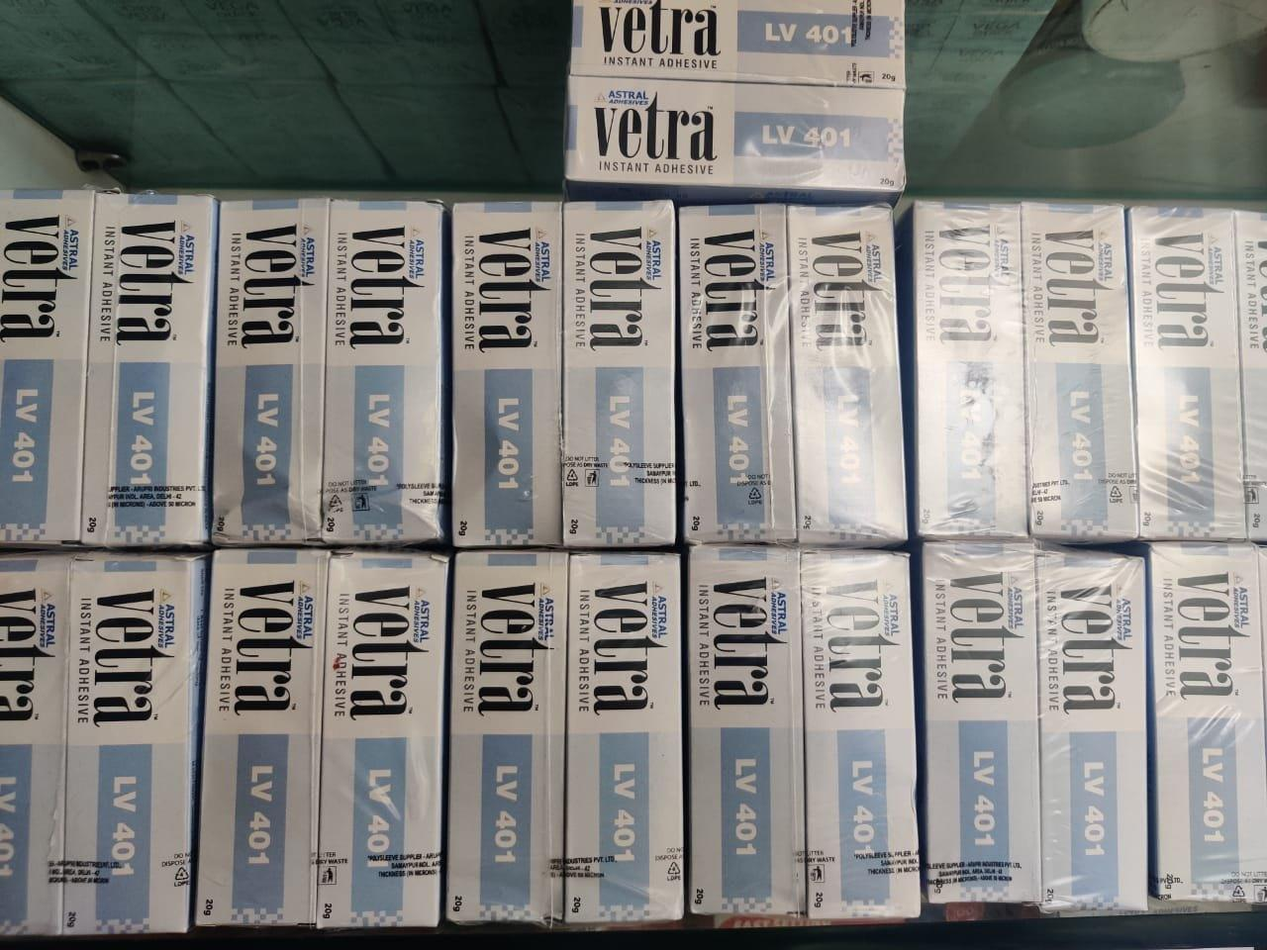VETRA_LV 401: (60, 554, 206, 934), (196, 549, 328, 925), (317, 552, 446, 928), (80, 193, 217, 545), (444, 551, 565, 922), (564, 553, 685, 923), (917, 542, 1040, 903), (802, 549, 920, 918), (565, 75, 904, 203), (321, 201, 447, 543), (1146, 543, 1266, 901), (688, 546, 805, 913), (899, 202, 1027, 537), (213, 199, 332, 543), (788, 207, 906, 546), (1038, 546, 1147, 910), (563, 201, 677, 547), (678, 205, 795, 542), (1023, 203, 1138, 541), (1126, 208, 1243, 539), (452, 202, 561, 547), (0, 190, 94, 544), (570, 0, 903, 85), (0, 555, 69, 934)
